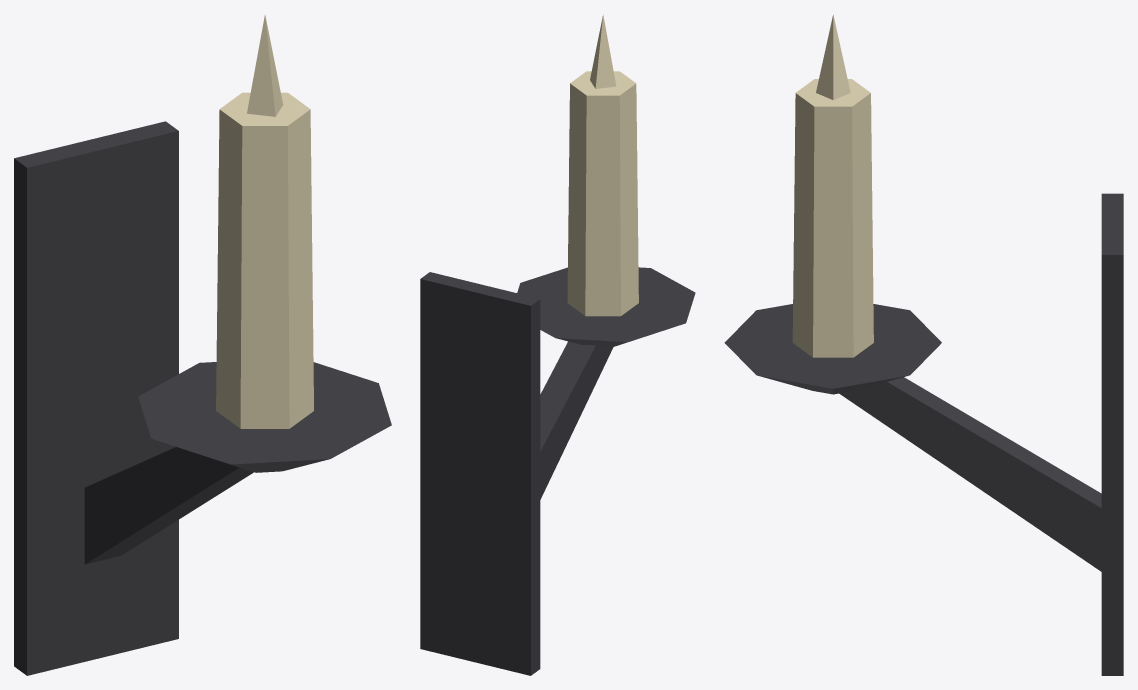
The model's file is Sconce.fbx.
The picture shows the model from 3 angles, left to right: view 1: azimuth 30°, elevation 25°; view 2: azimuth 150°, elevation 25°; view 3: azimuth 270°, elevation 25°; orthographic projection. The views are drawn at different scales.
Parts seen in each view (by area): view 1: Sconce; view 2: Sconce; view 3: Sconce.
Part boxes in pixels (x1,y1,x2,y2): Sconce: (14,15,391,675); Sconce: (420,14,695,675); Sconce: (724,15,1123,675).
Bounding box in the file's own units: 0.15 × 0.48 × 0.275.
